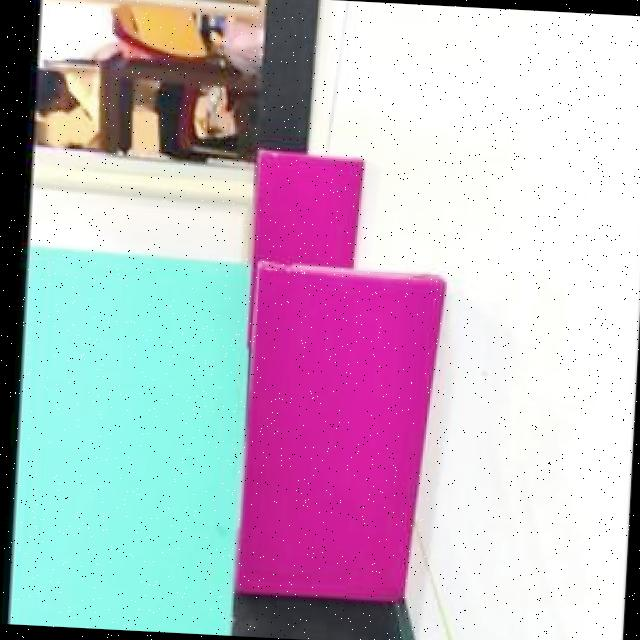xparking: (244, 270, 446, 601), (252, 154, 362, 268)
